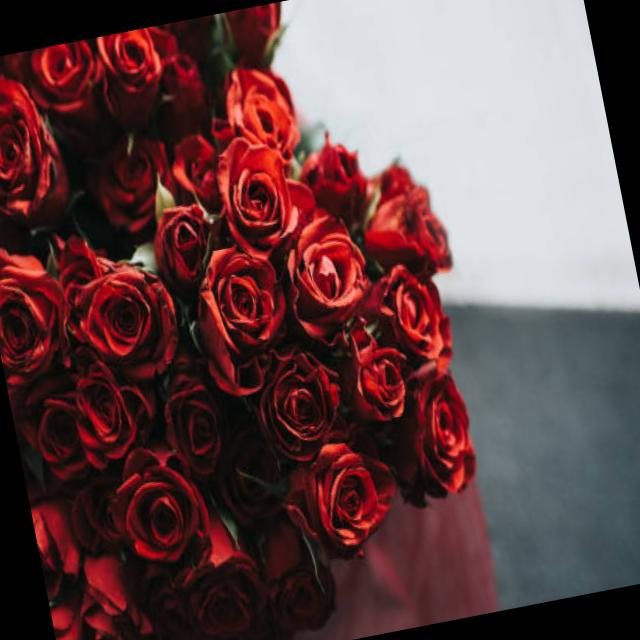paper: (0, 0, 497, 610), (178, 244, 308, 387), (83, 245, 199, 380), (276, 210, 377, 360)
